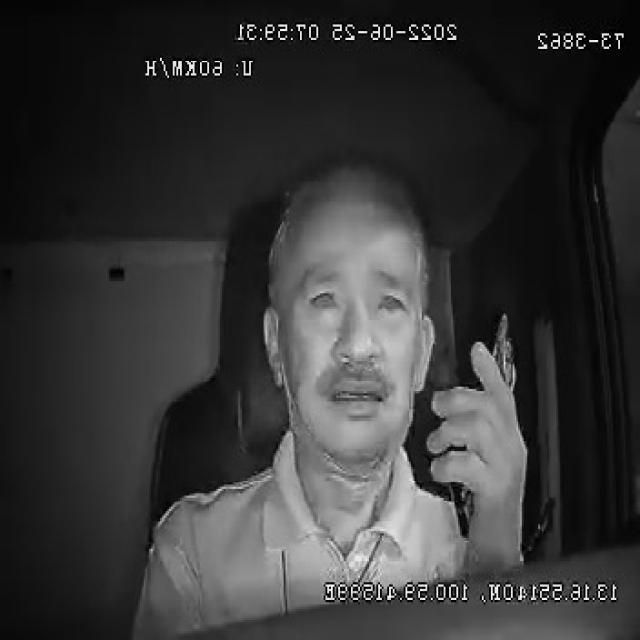phone: (448, 312, 518, 542)
